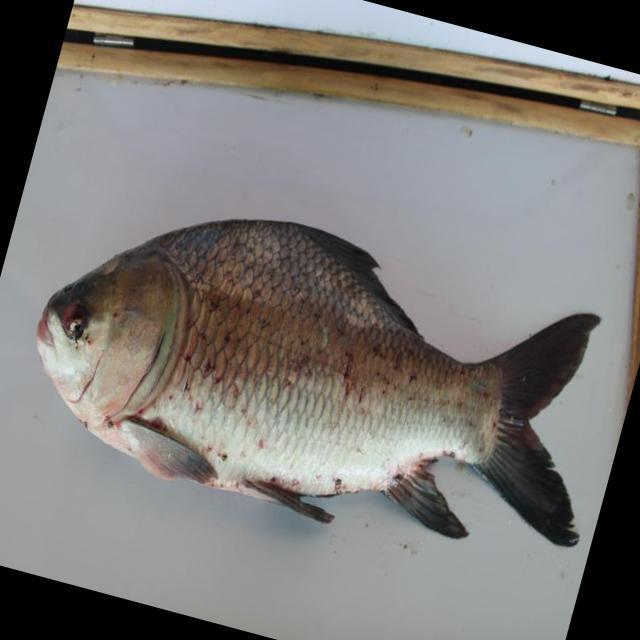Catla: (24, 212, 589, 546)
